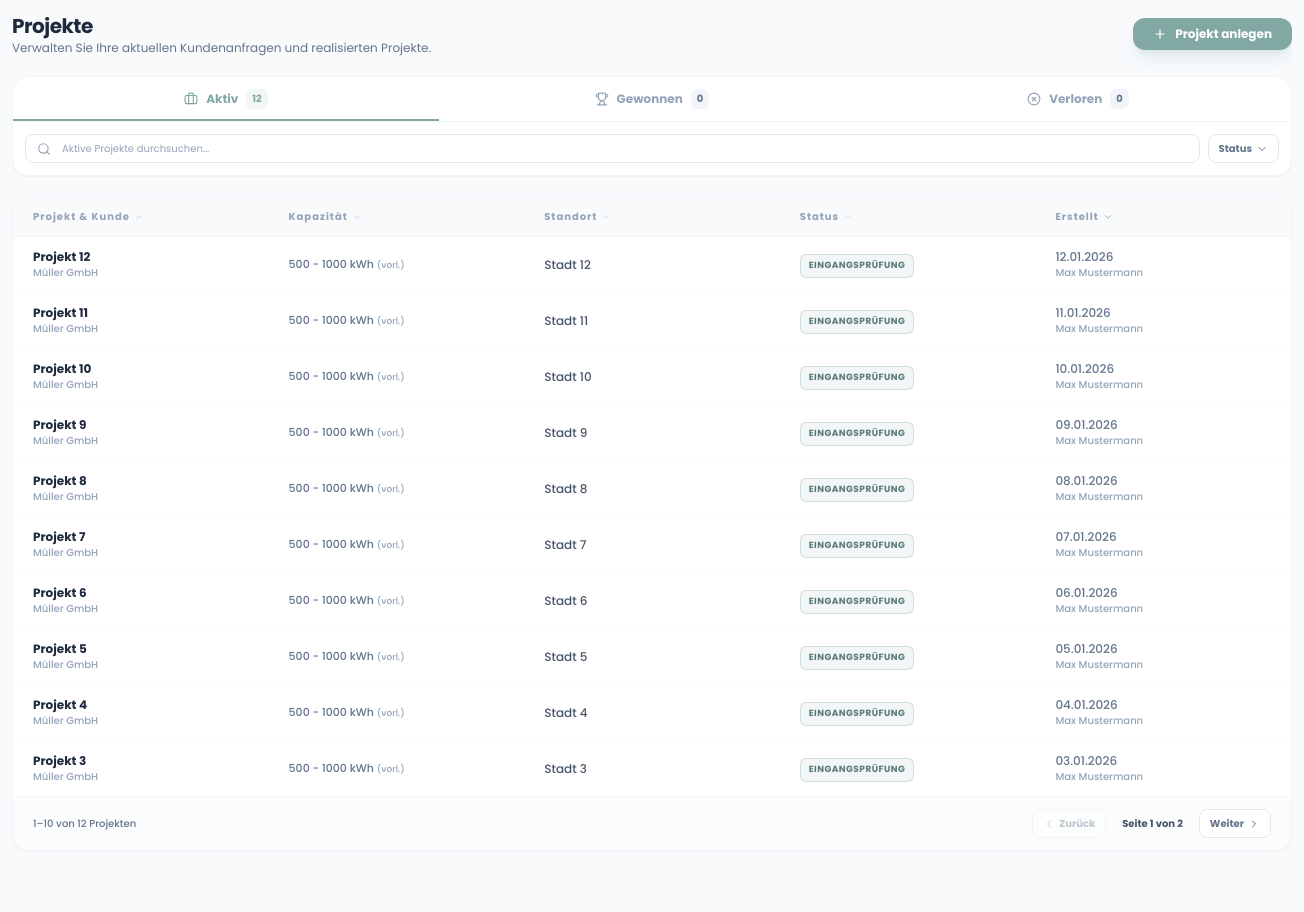
it: ProjektUeberblick – Pagination › Zurück-Button geht zur vorherigen Seite
What coordinates should you click on to do the following:
click the button "Weiter"
I would click on:
 (1235, 824)
Its box is [1199,809,1271,838].
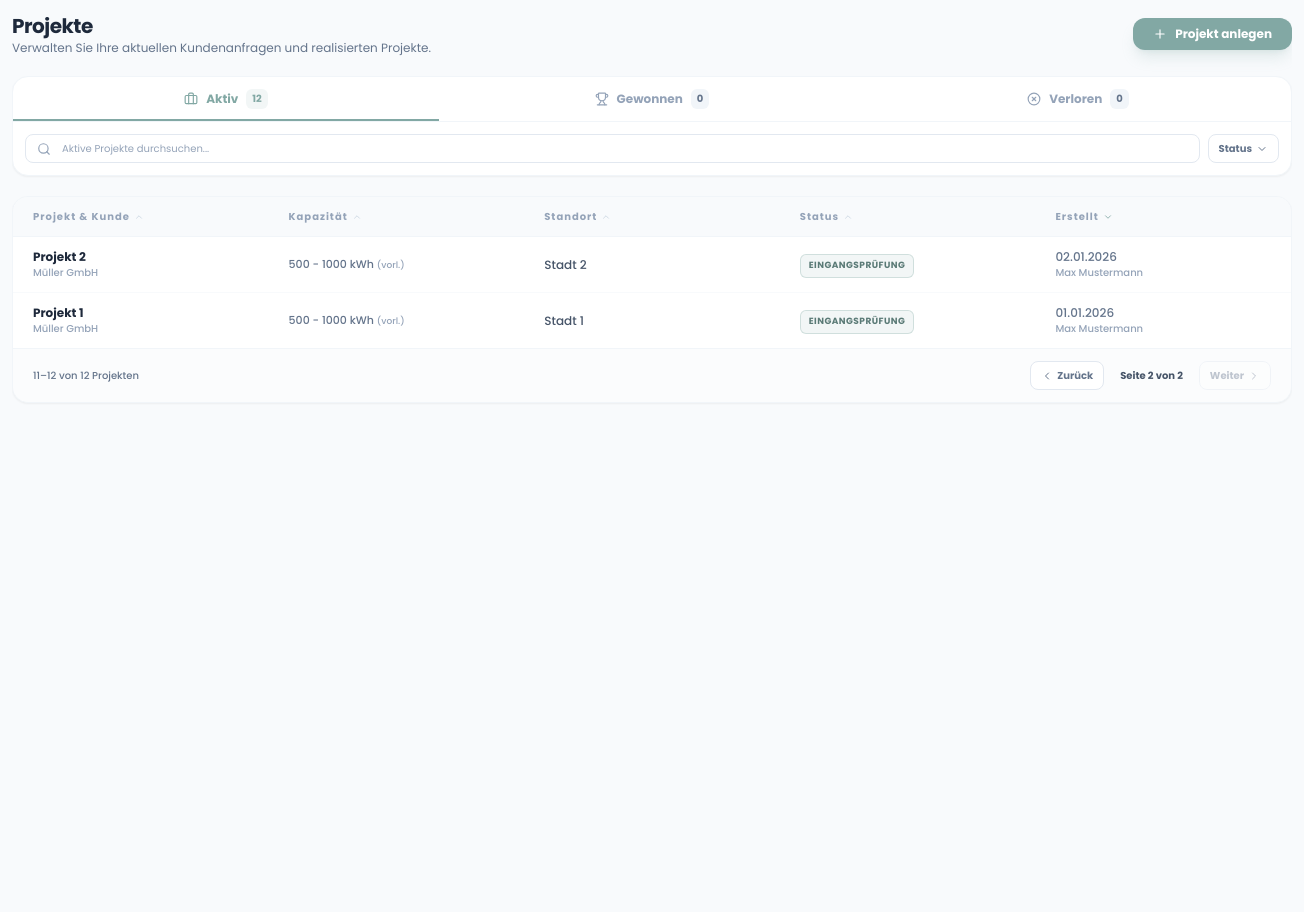
What coordinates should you click on to do the following:
click the button "Zurück"
I would click on:
 (1067, 376)
Its box is [1030,361,1104,390].
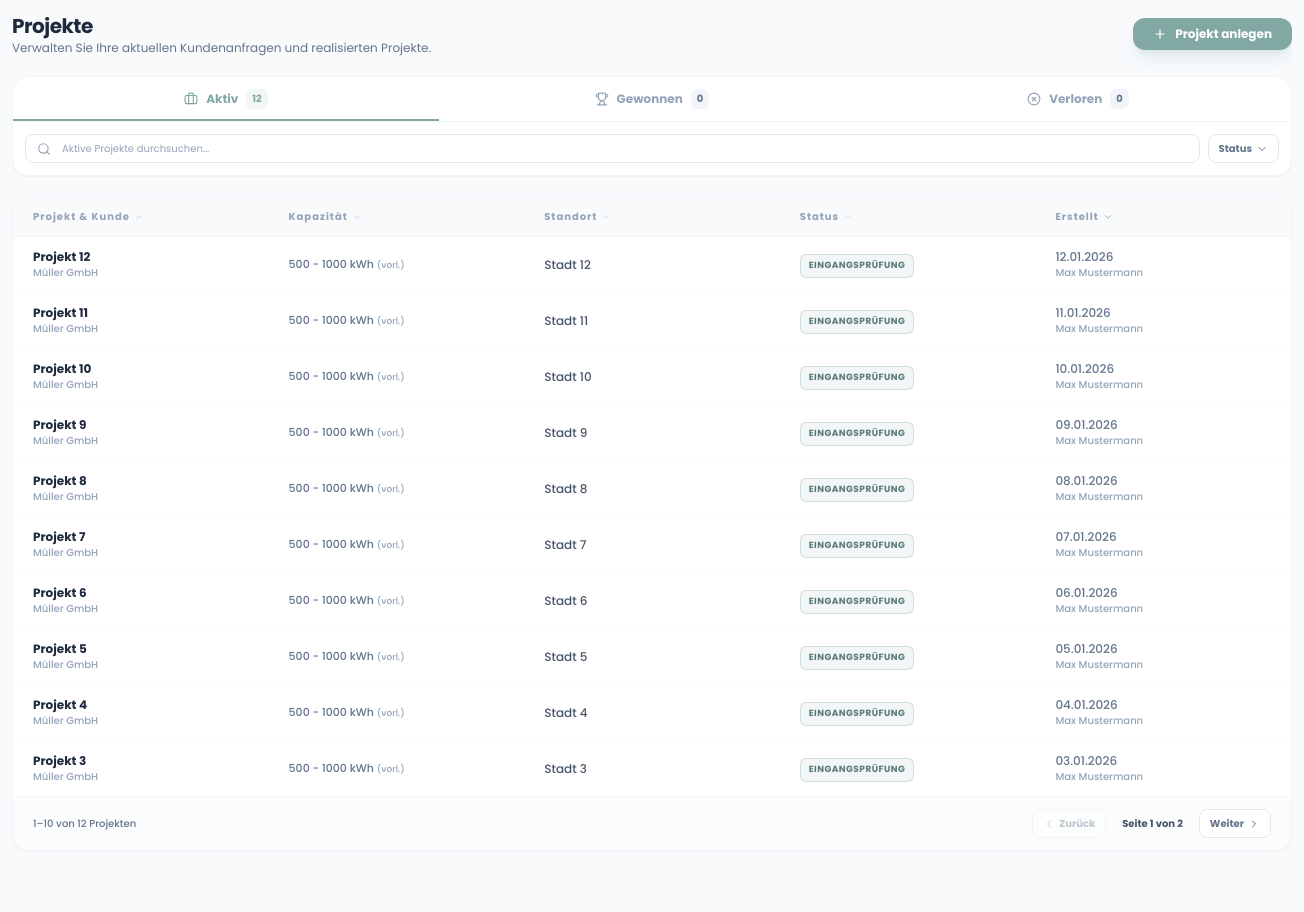
Expected: the text "Seite 1 von 2" is shown, [1122,816,1183,831]
